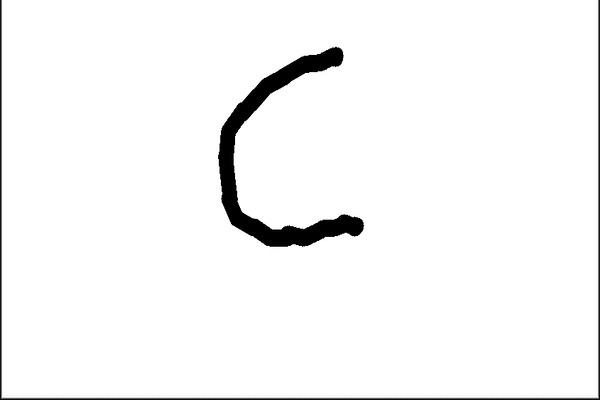C: (215, 43, 368, 250)
